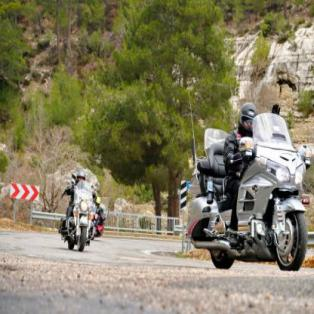Motocicleta: (180, 112, 308, 282), (46, 170, 107, 255)
